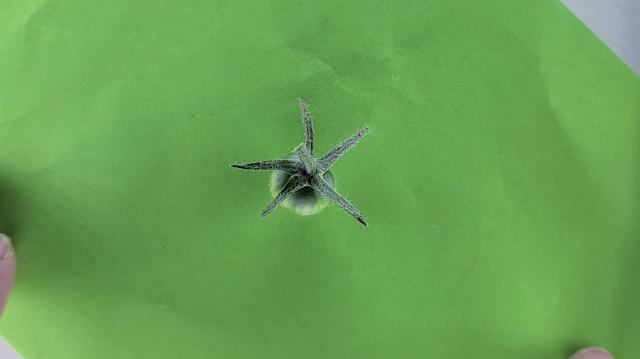Fruit Maturation: (268, 150, 339, 217)
